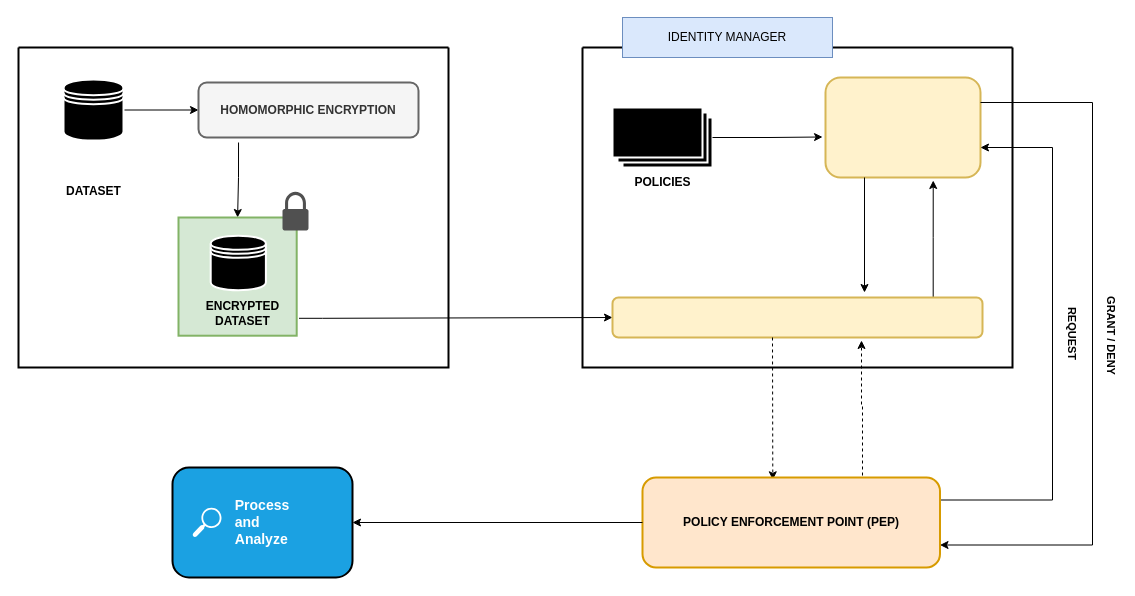
The diagram is 1135 pixels wide and 596 high, and some of its shapes have lost their labels. Here are the shapes that lost their labels. From the top down, the centre of each, then its label:
point 902,127: POLICY DECISION POINT (PDP)
point 797,317: POLICY INFORMATION POINT (PIP)
